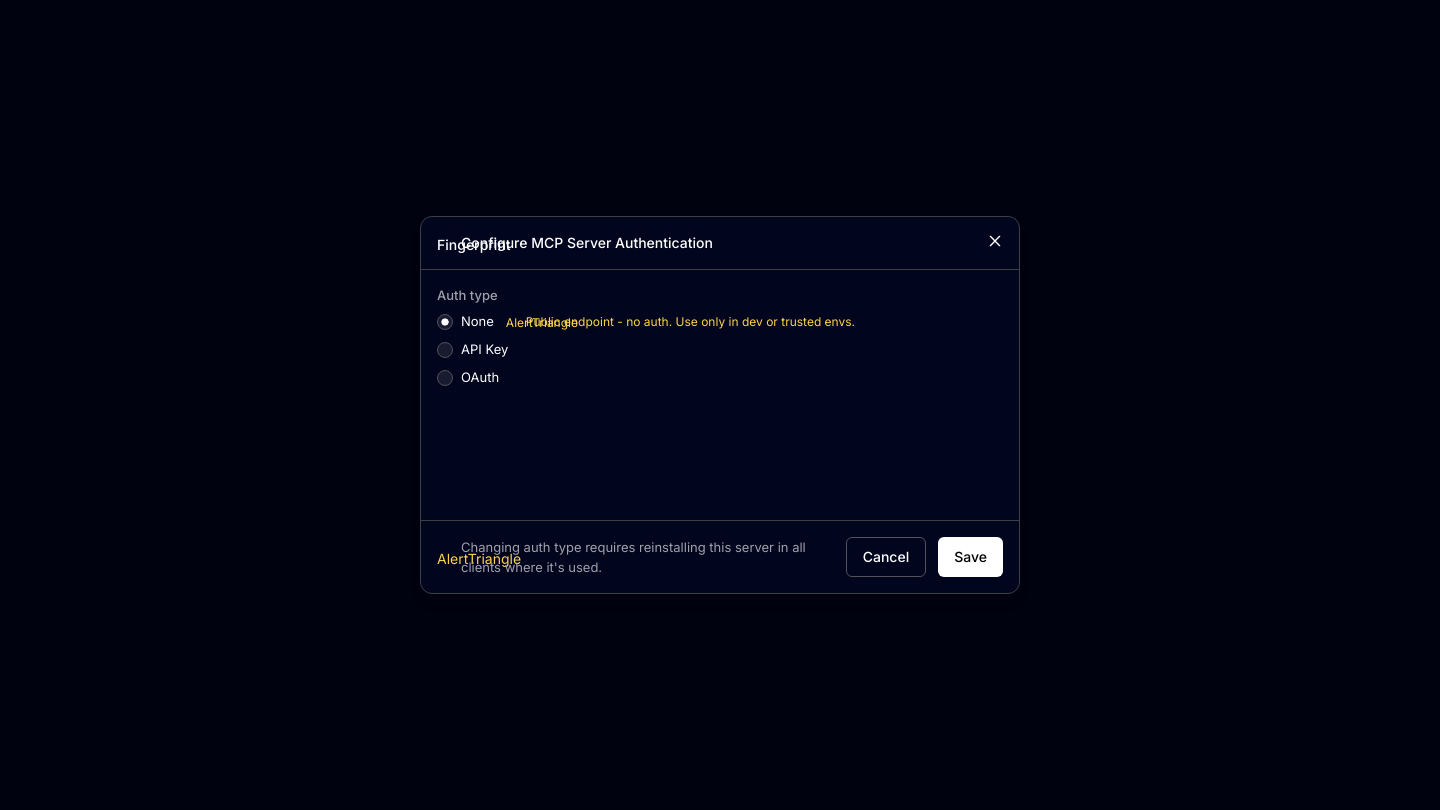
Scenario: AuthModal OAuth Port Synchronization › should auto-sync Server URL when Host is changed
Note: Select OAuth auth type
Click the radio button named "OAuth" next to "OAuth".
click(445, 378)  # box [437, 370, 453, 386]
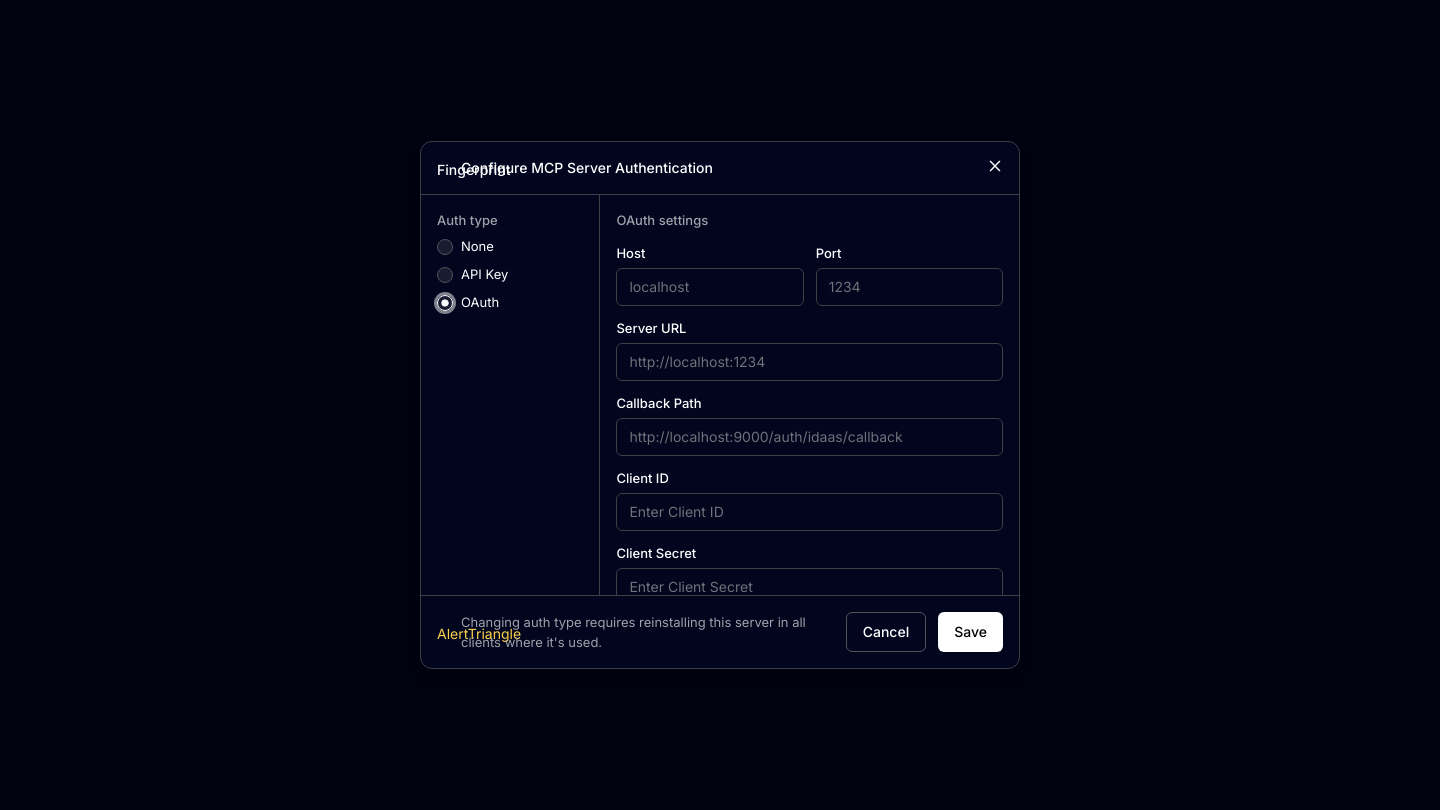
Note: Fill in the Host first
Type "example.com" into the field labelled "Host".
click(710, 286); type("example.com")  # box [616, 268, 804, 306]
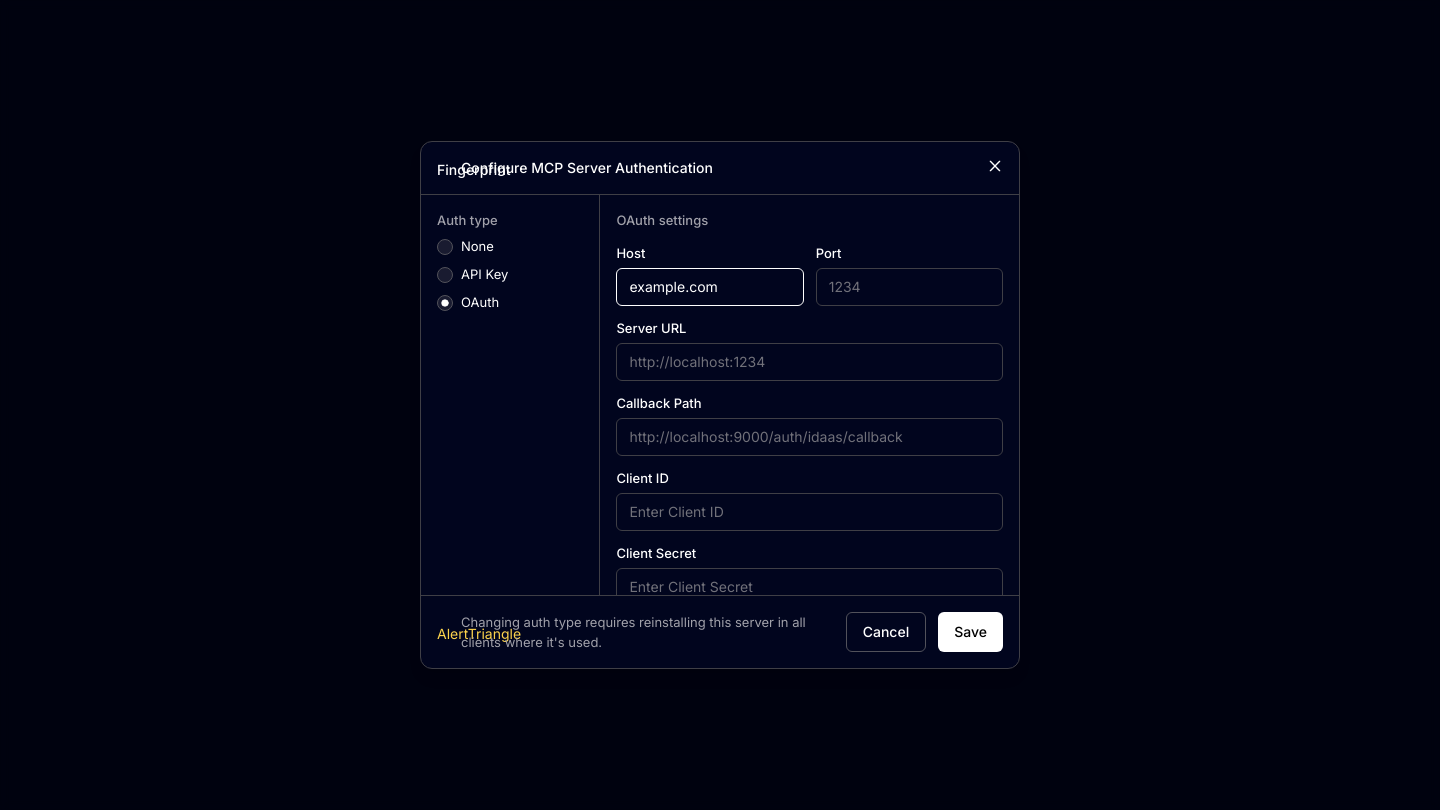
Note: Then fill in the Port
Type "8080" into the field labelled "Port".
click(909, 286); type("8080")  # box [816, 268, 1003, 306]
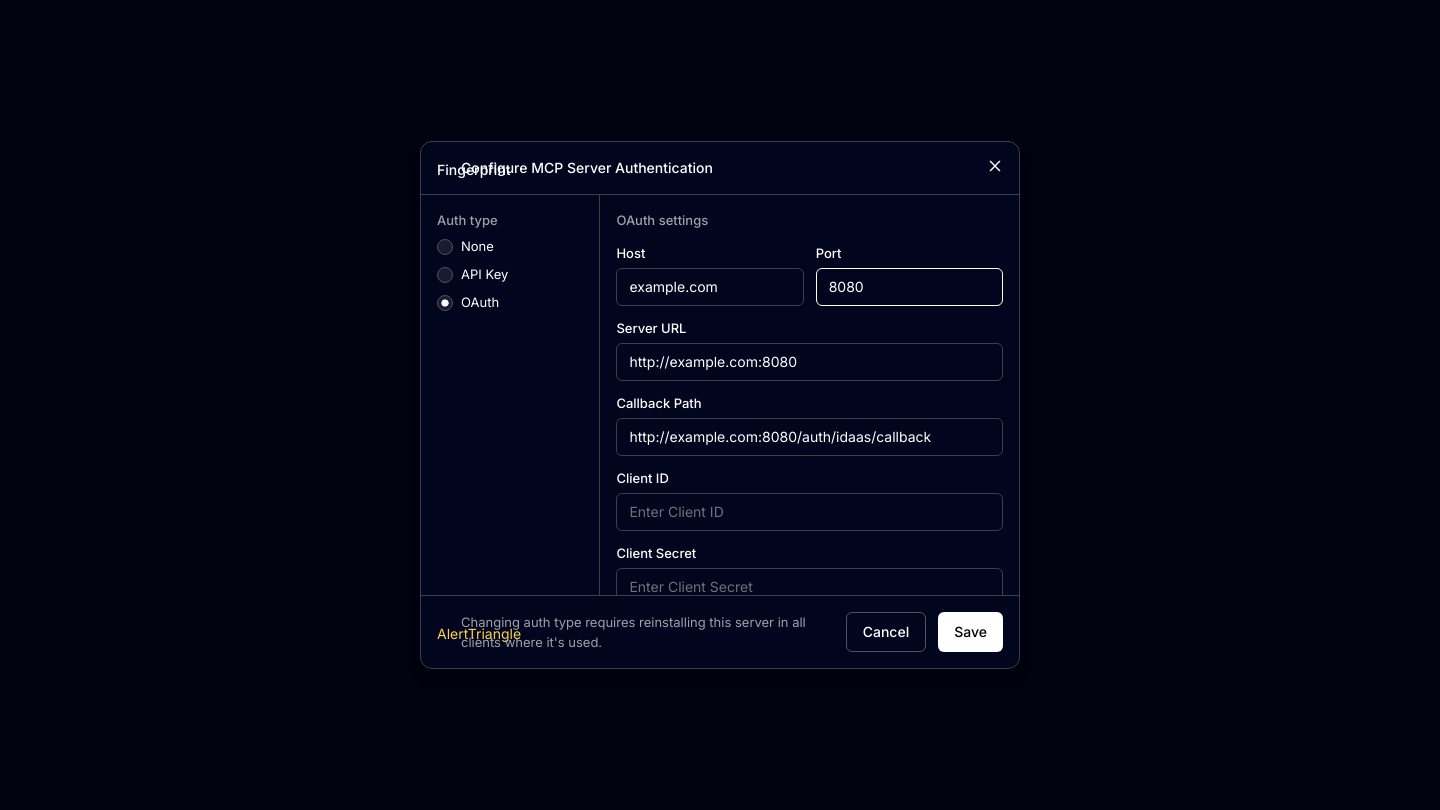
expect the field labelled "Server URL" holds "http://example.com:8080": met, box [616, 342, 1003, 380]
